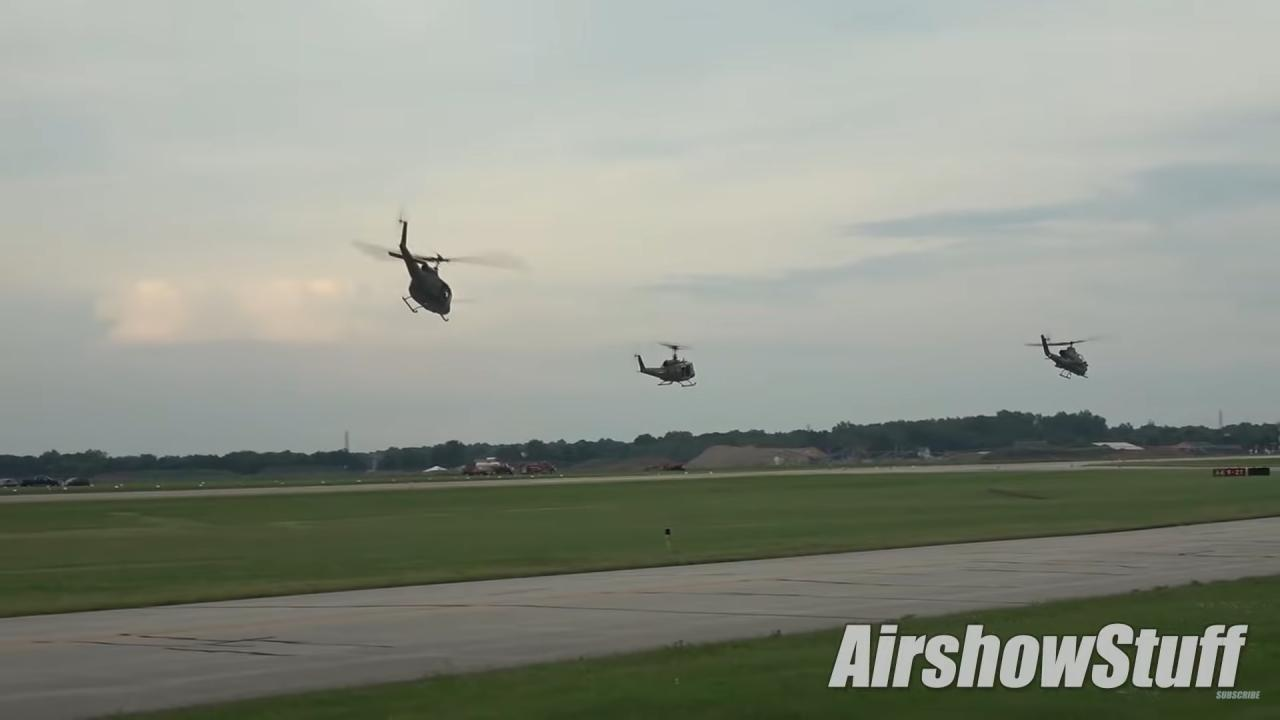Helicopter: (324, 202, 536, 335), (593, 321, 744, 407), (1002, 318, 1128, 397)
